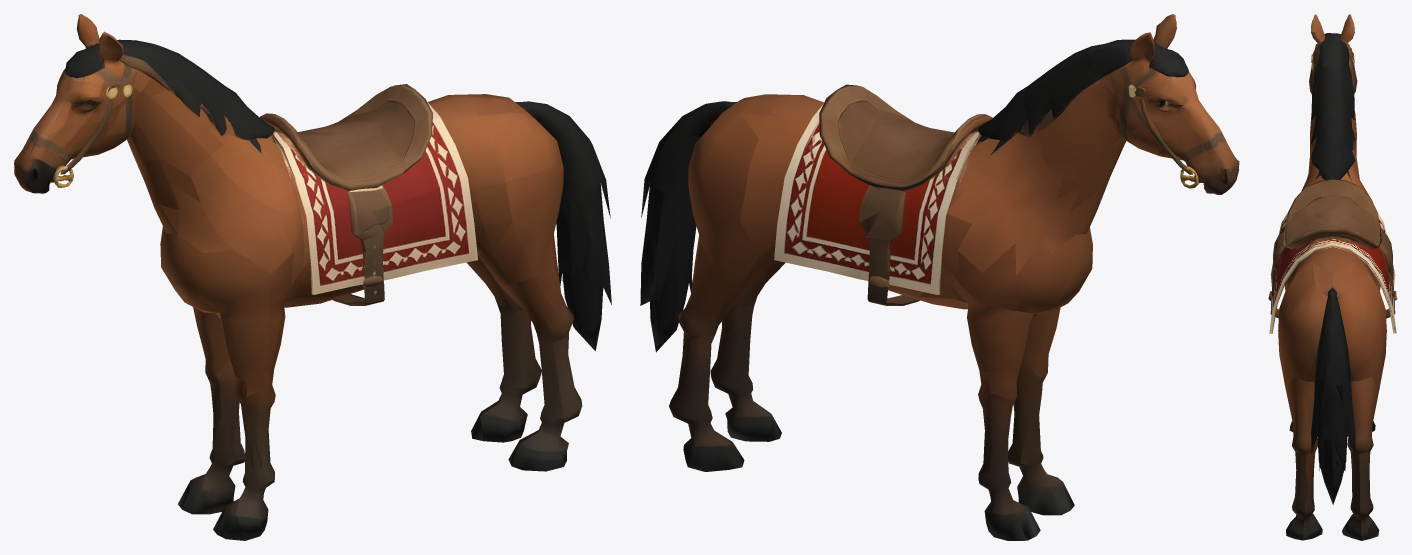
Rendered from war-horse.glb.
The picture shows the model from 3 angles, left to right: view 1: azimuth 30°, elevation 25°; view 2: azimuth 150°, elevation 25°; view 3: azimuth 270°, elevation 25°; orthographic projection. The views are drawn at different scales.
Parts seen in each view (by area): view 1: mesh_node; view 2: mesh_node; view 3: mesh_node.
Boxes of the visible parts, left/top/right/bottom form: mesh_node: left=14, top=14, right=611, bottom=540; mesh_node: left=640, top=14, right=1239, bottom=540; mesh_node: left=1268, top=14, right=1397, bottom=540.
Bounding box in the file's own units: 2.09 × 1.8 × 0.5681.
1 material, 1 textured.
